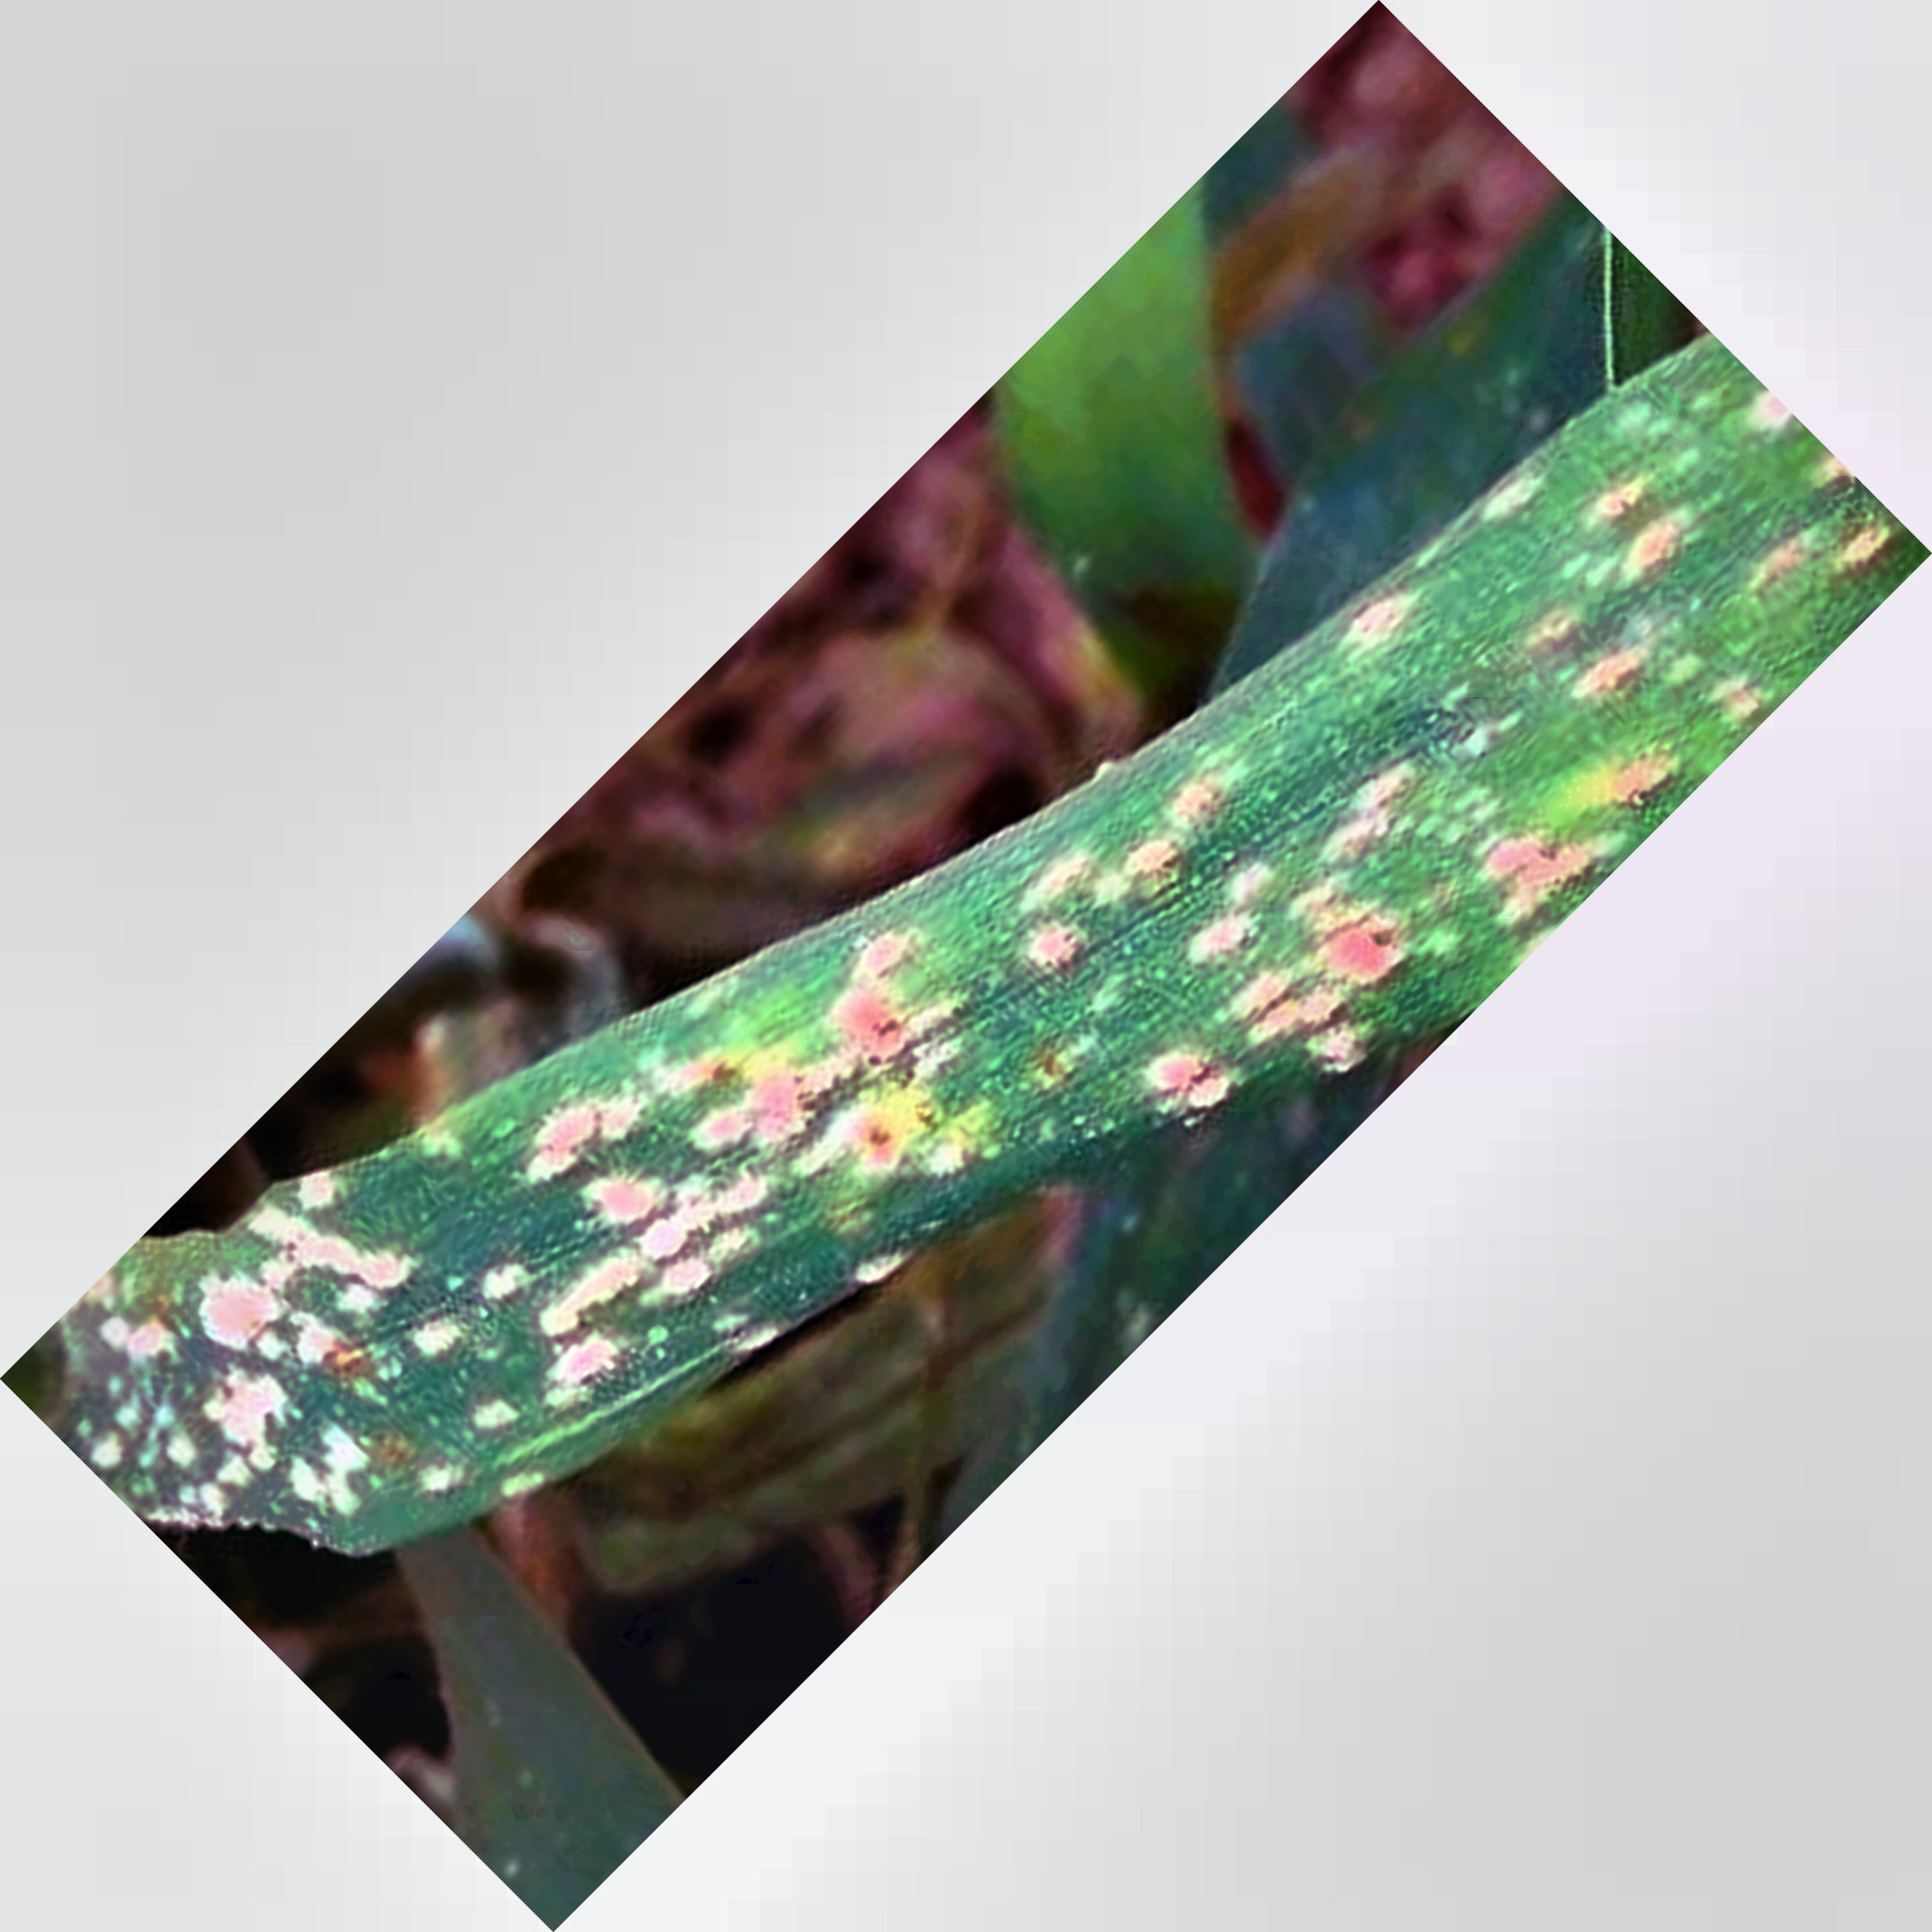Powdery Mildew: (237, 630, 1553, 1463)
